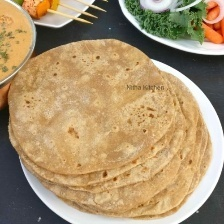dal: (0, 0, 39, 87)
